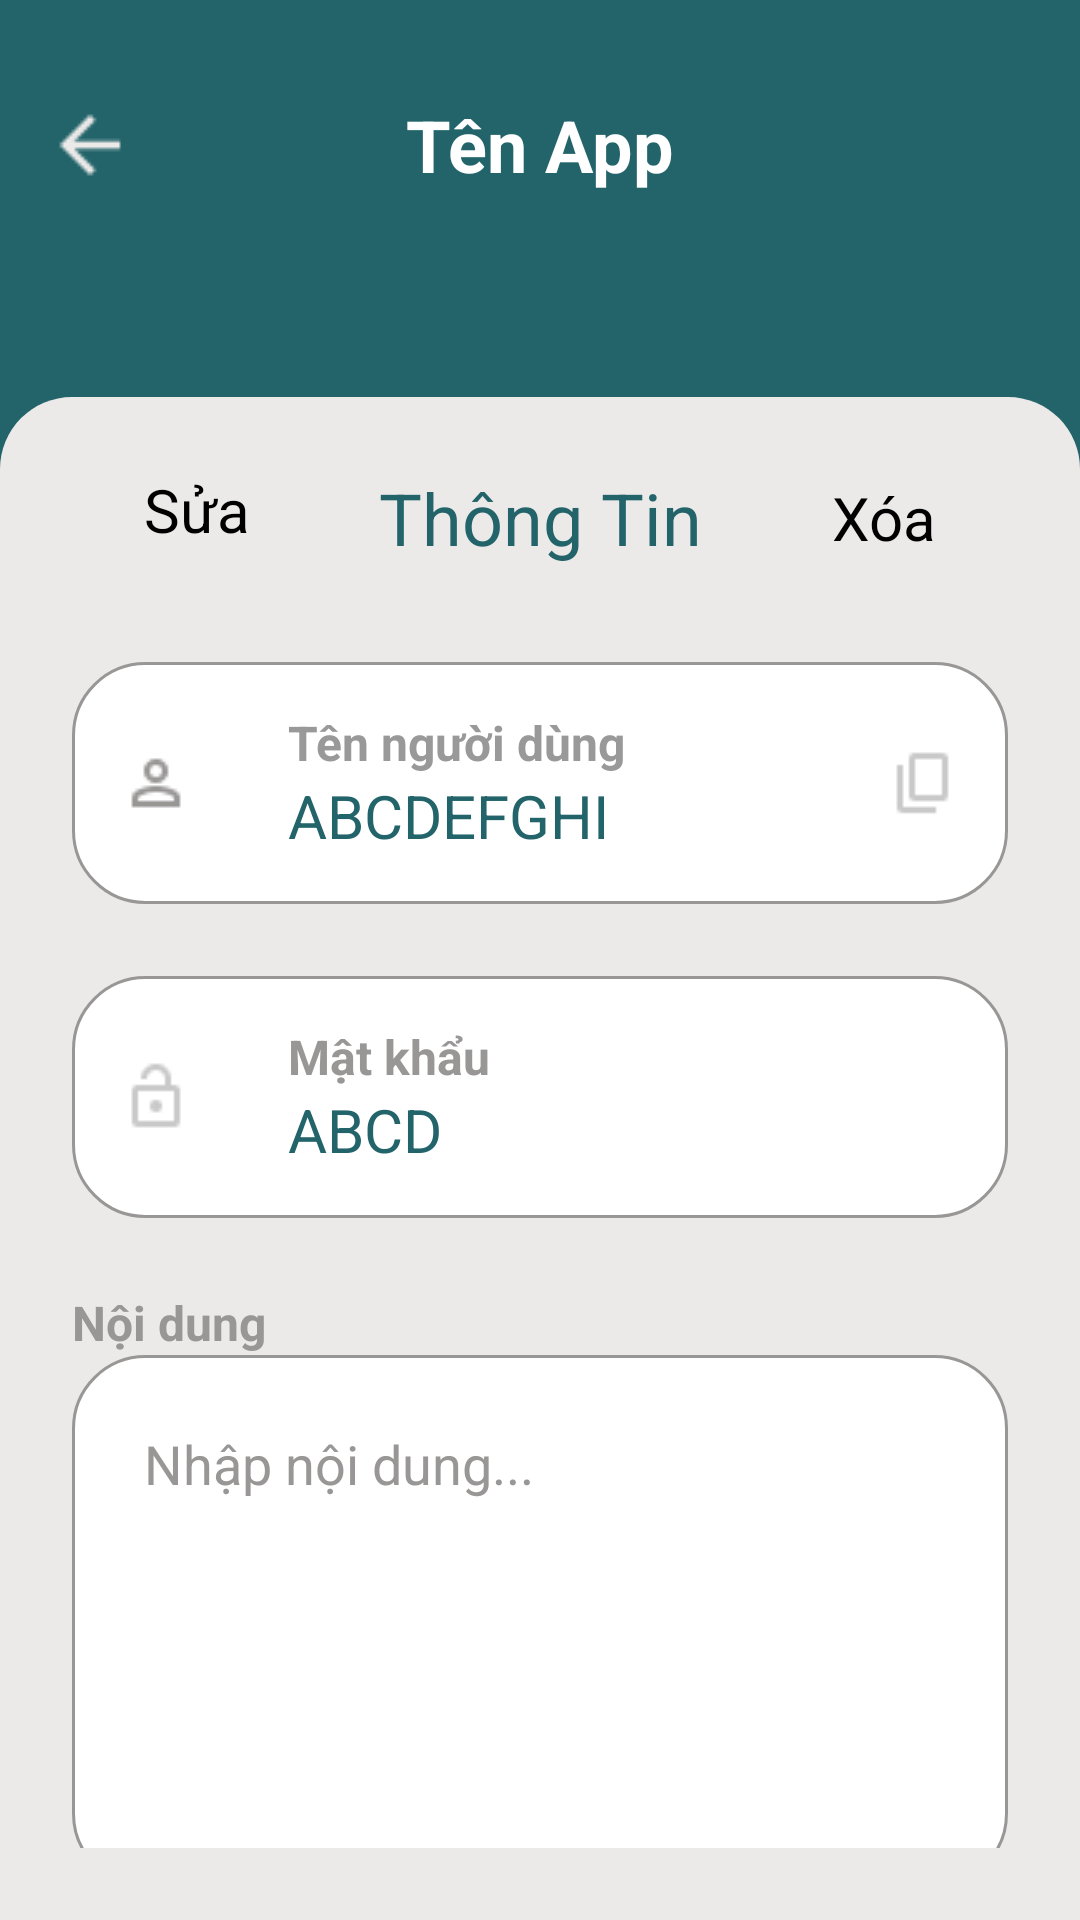

Named icons in this screenshot (1080×1920) and their centers, (x,y):
Back: (90,145)
lockopen: (156,1095)
user: (156,783)
